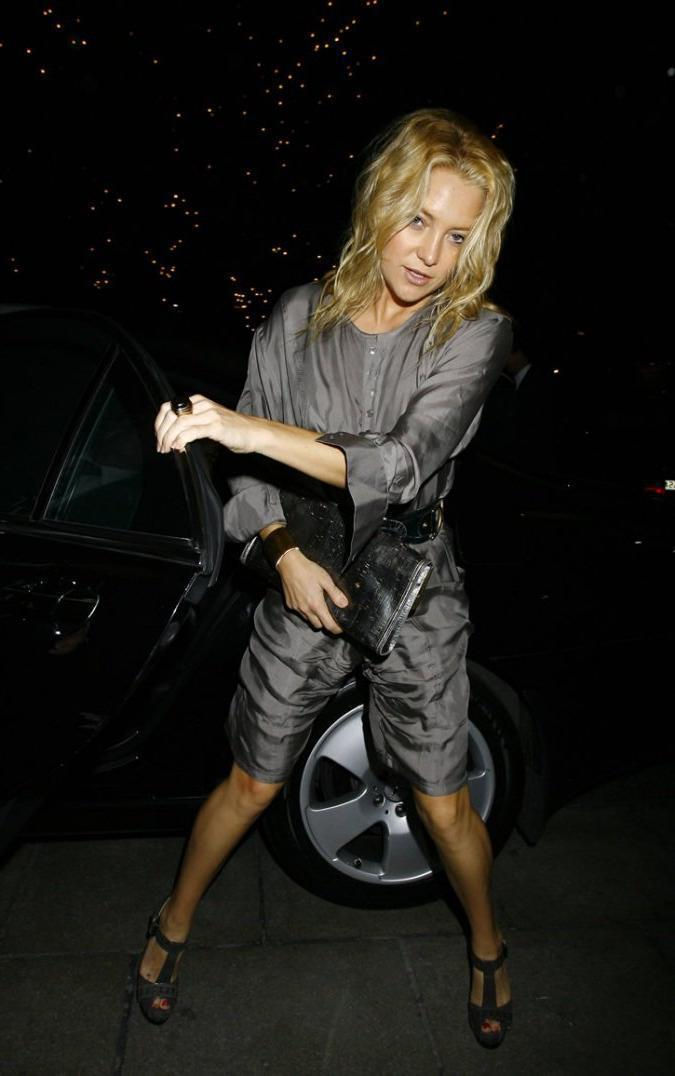Drunk: (386, 153, 463, 297)
